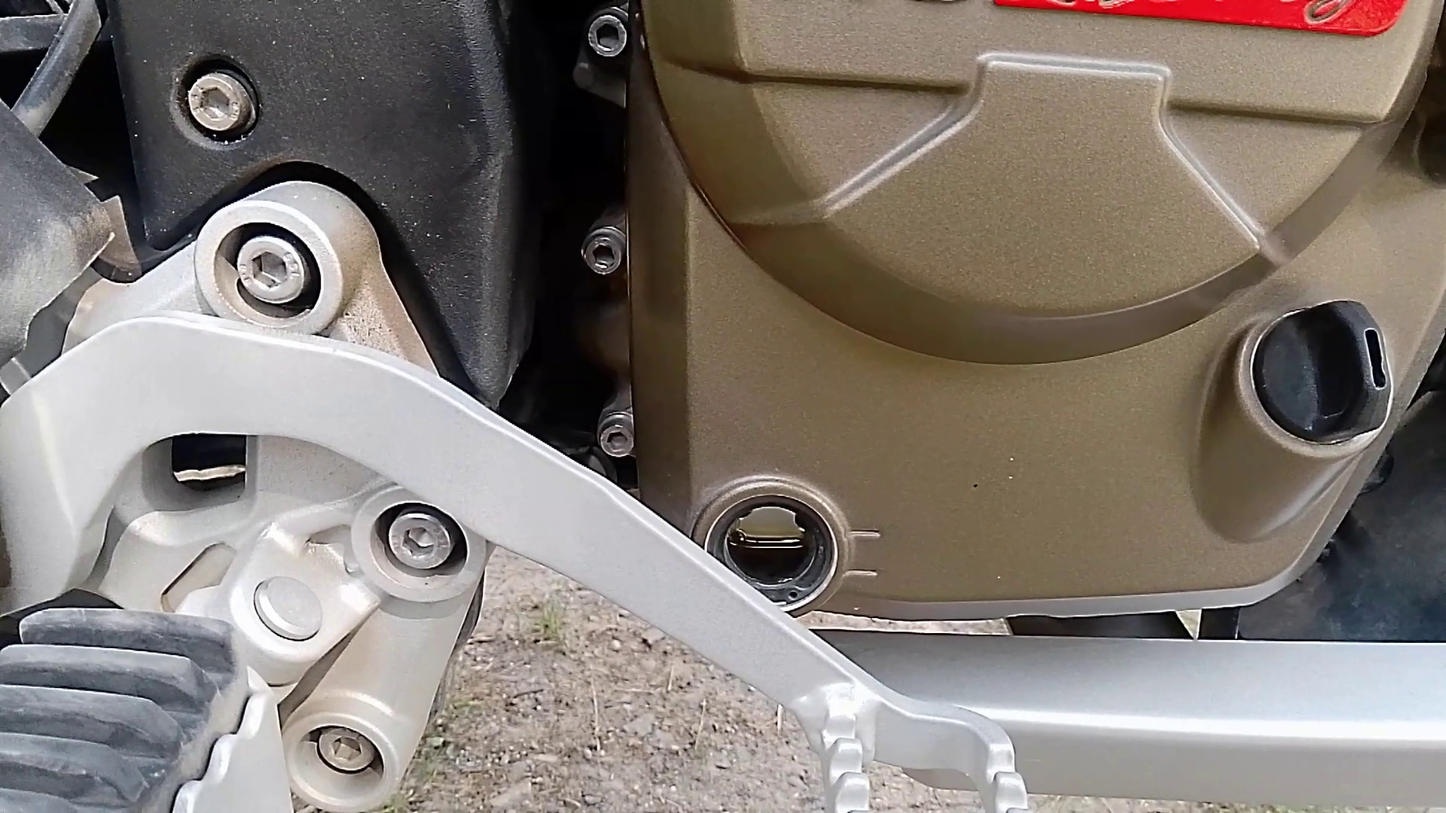engine: (537, 0, 1446, 674)
oil_cap: (1229, 290, 1433, 470)
oil_marker: (668, 467, 915, 623)
